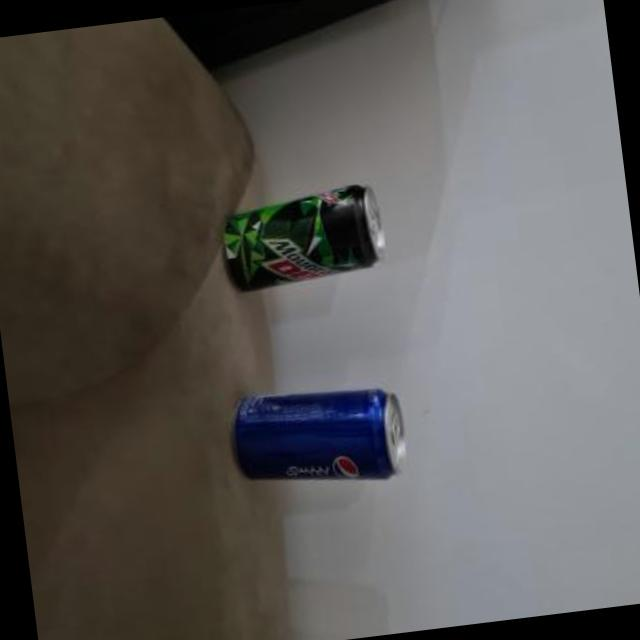metal: (226, 183, 386, 288), (237, 386, 406, 476)
